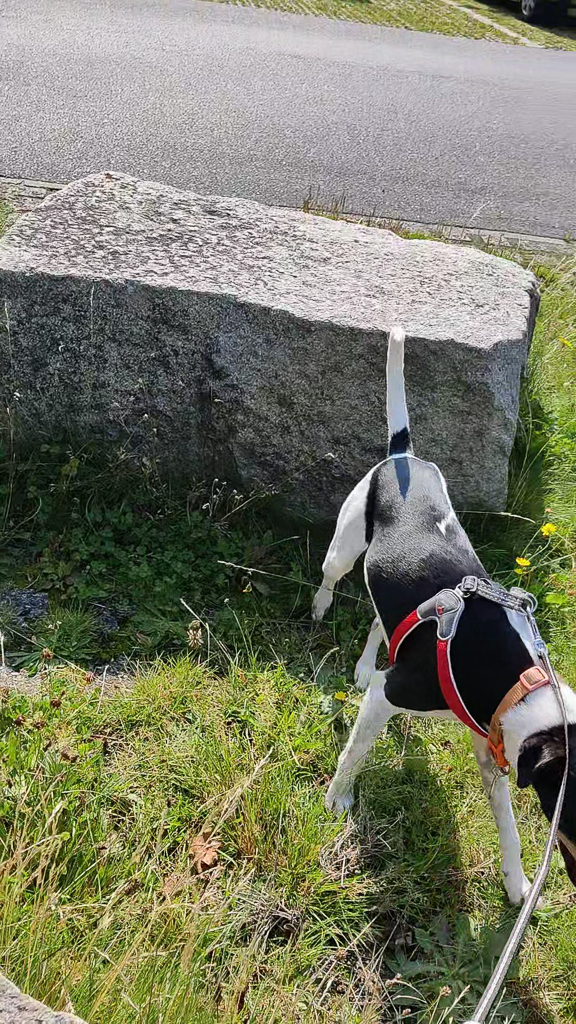Dog: (293, 312, 576, 929)
